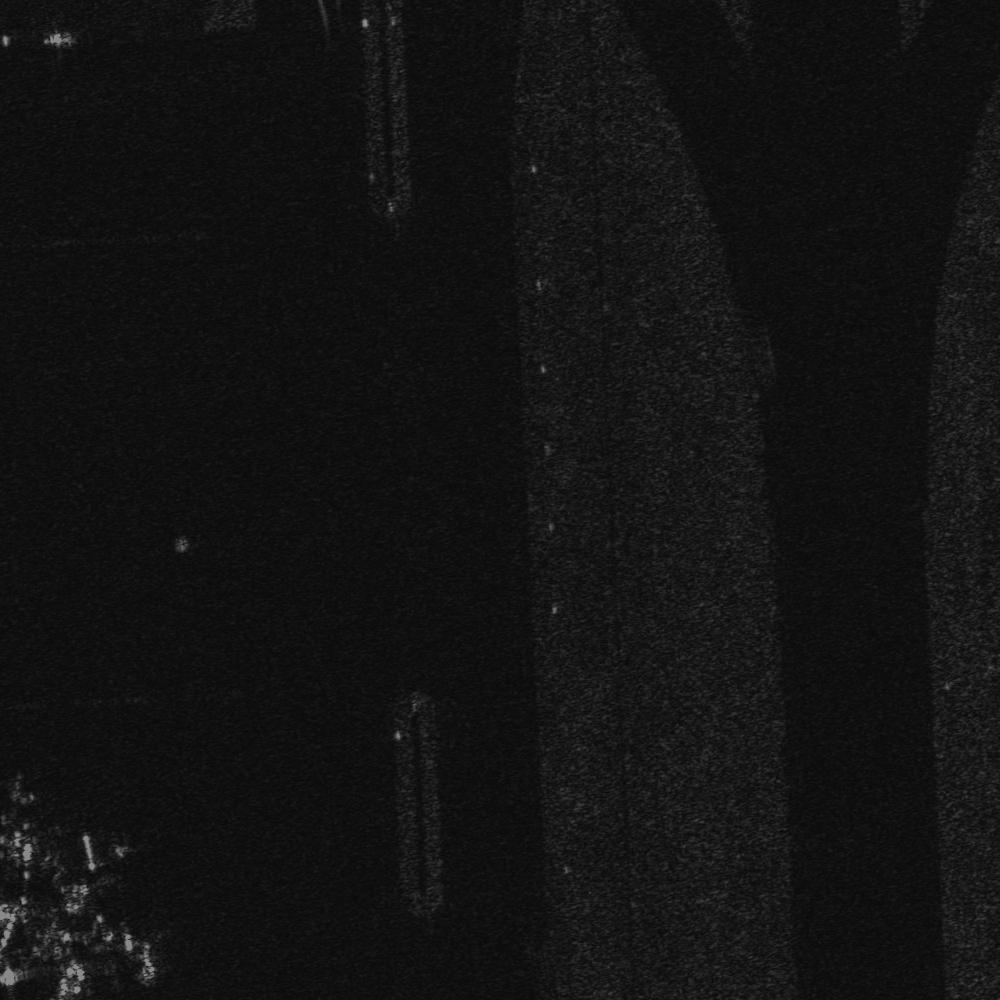A320/321: (1, 769, 50, 876)
